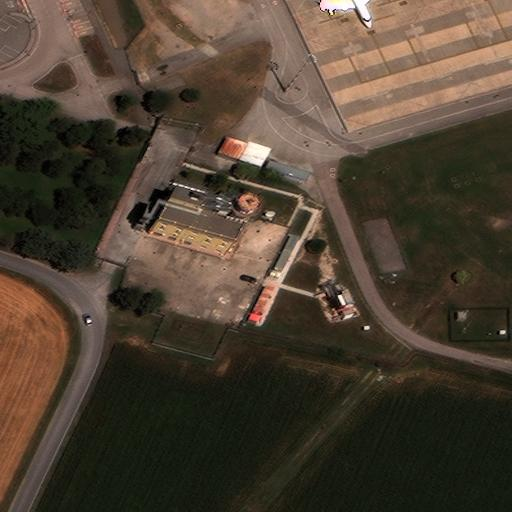Medium Civil Transport: (324, 0, 381, 28)
